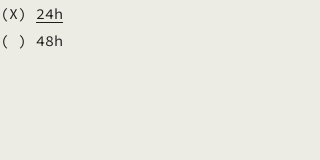
Scenario: Radio › selects one option at a time and exposes aria-checked
Click the radio button labelled "48h".
click(14, 40)  # box [0,27,63,54]
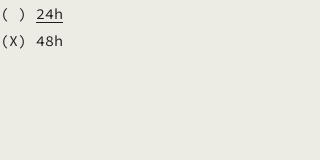
Now the radio button labelled "48h" is checked, box [0,27,63,54]
